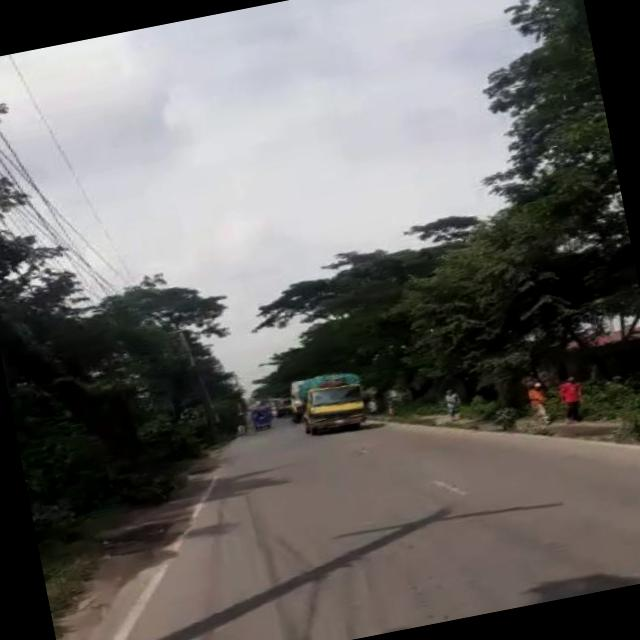motorcycle: (244, 405, 270, 429)
truck: (292, 368, 368, 436)
